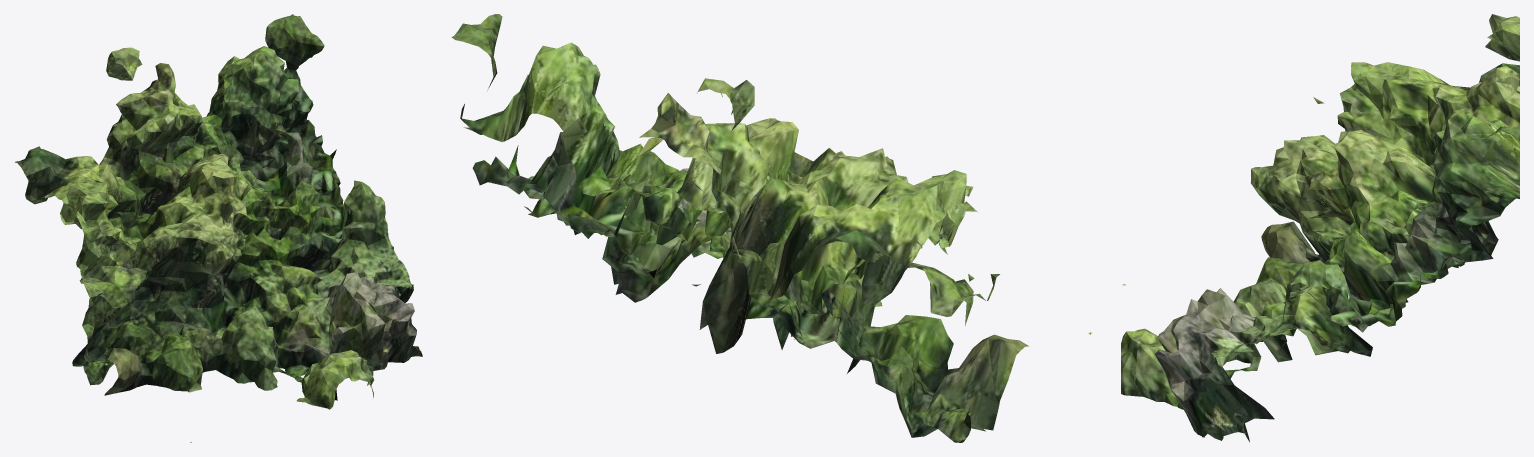
3 renders of one model, left to right at view 1: azimuth 30°, elevation 25°; view 2: azimuth 150°, elevation 25°; view 3: azimuth 270°, elevation 25°, orthographic. The views are drawn at different scales.
Size of the model in its own units: 26.11 by 22.97 by 26.11.
6 materials, 6 textured.
